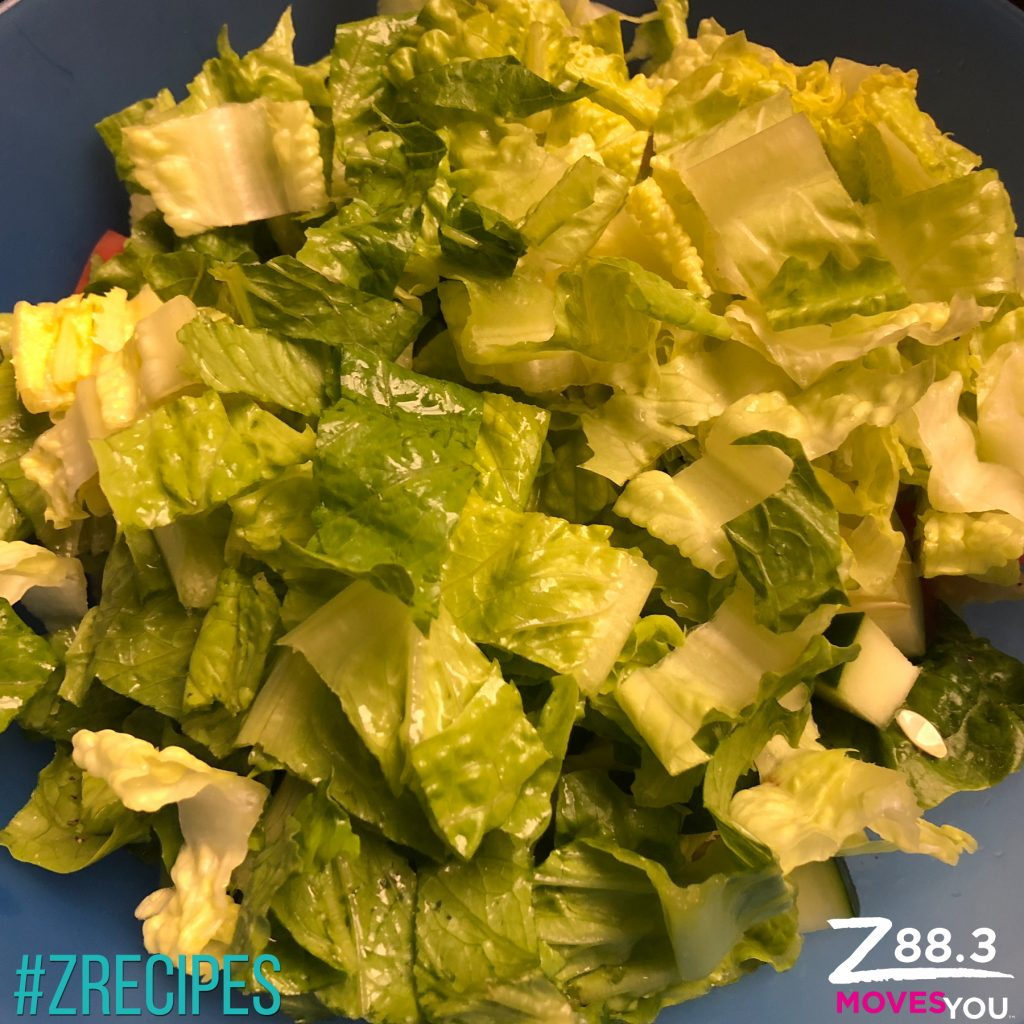chopped lettuce: (15, 41, 1002, 995)
